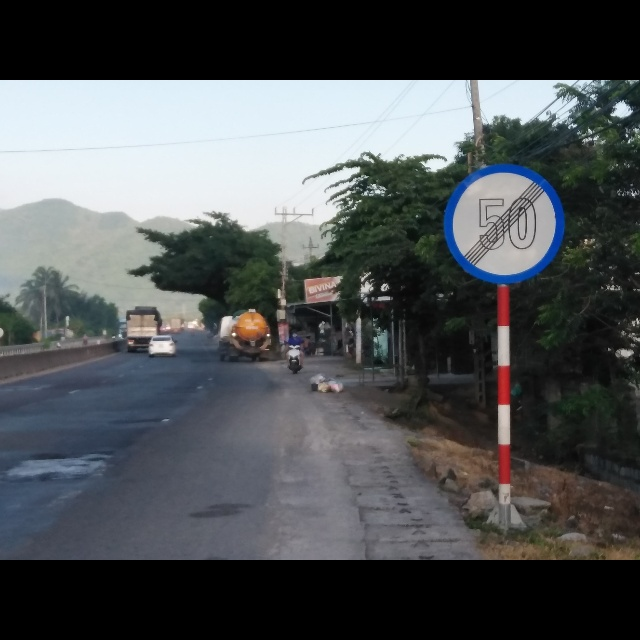Hết hạn chế tốc độ tối đa 50km/h: (440, 162, 566, 286)
